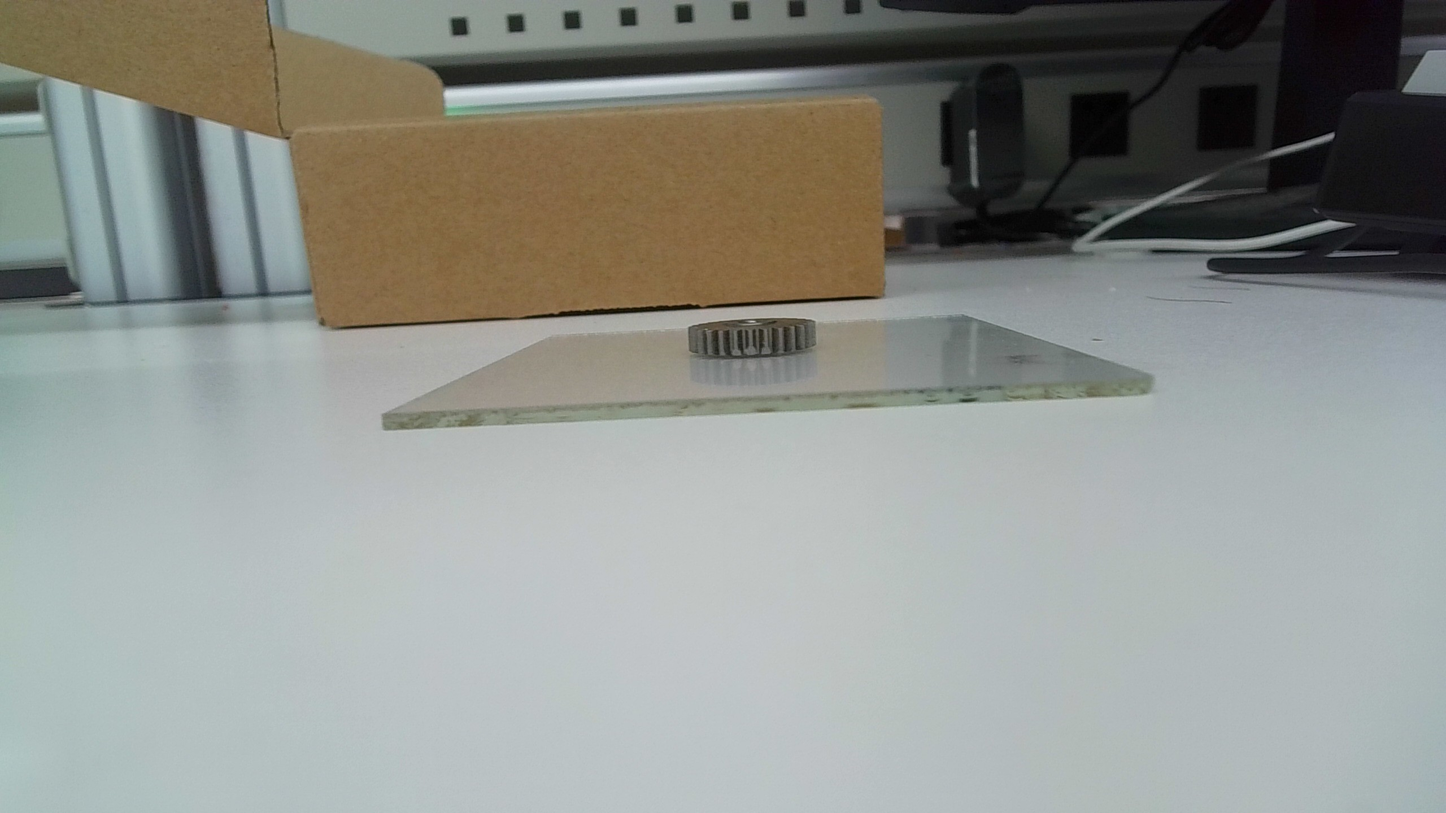gear: (687, 316, 820, 361)
